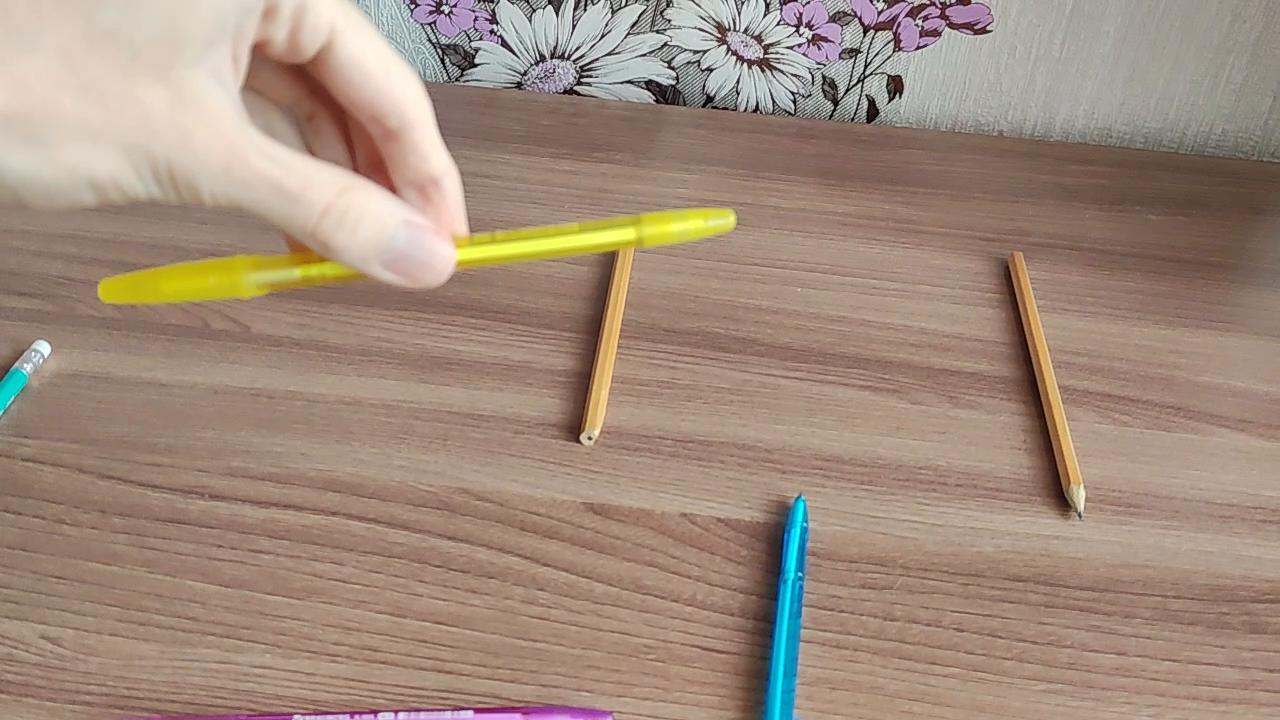pen: (96, 204, 741, 311), (766, 487, 810, 720)
pencil: (1004, 245, 1091, 520), (577, 247, 639, 448), (0, 336, 56, 417)
